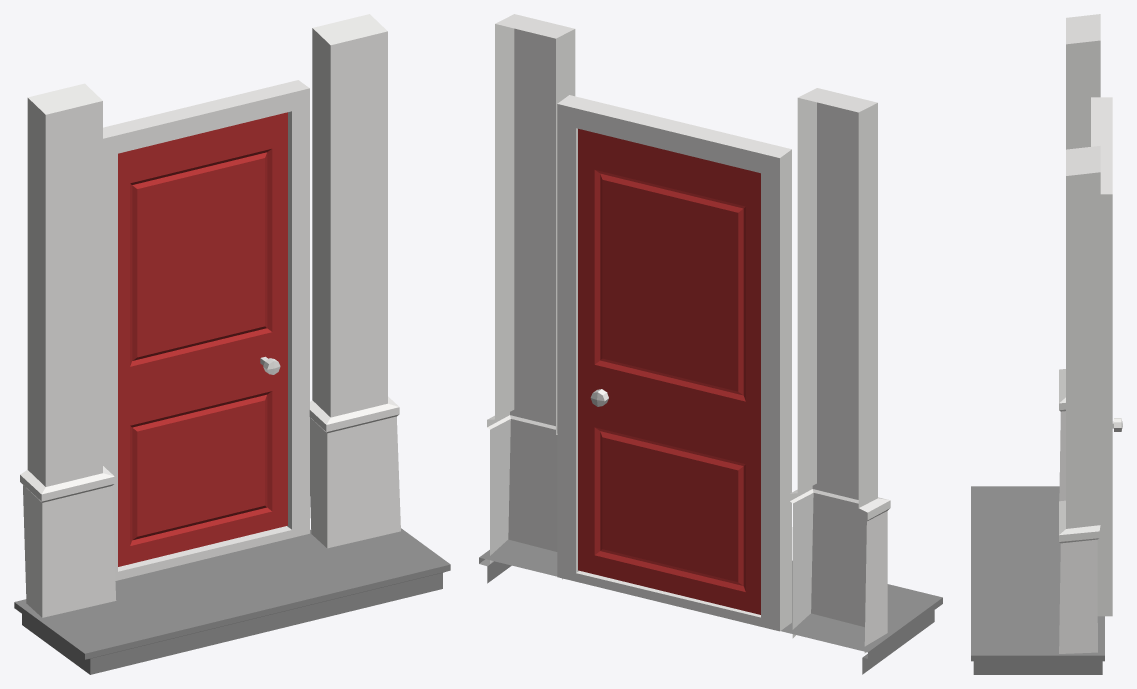
Rendered from Door_1.glb.
3 views of the same model, side by side, from view 1: azimuth 30°, elevation 25°; view 2: azimuth 150°, elevation 25°; view 3: azimuth 270°, elevation 25° (orthographic). The views are drawn at different scales.
Visible parts, largest first — view 1: Door_1; view 2: Door_1; view 3: Door_1.
Boxes of the visible parts, x1,y1,x2,y2 form: Door_1: (14,14,450,674); Door_1: (479,14,942,674); Door_1: (971,14,1122,674).
Bounding box in the file's own units: 2.87 × 3.96 × 1.09.
Materials: 1 (1 with a texture image).
